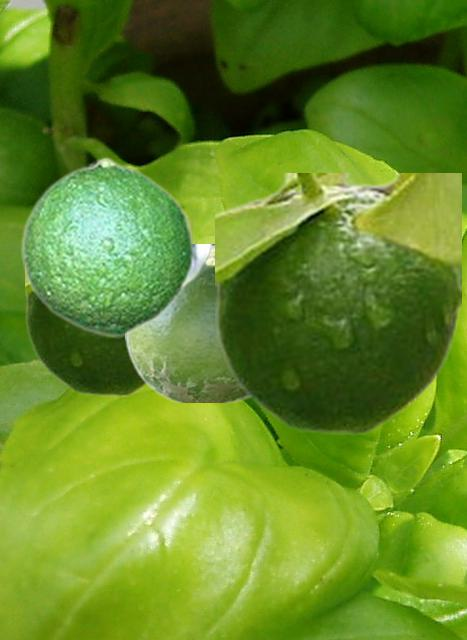dalandan: (215, 173, 460, 433), (19, 156, 194, 337), (25, 219, 191, 395), (125, 244, 249, 401)
